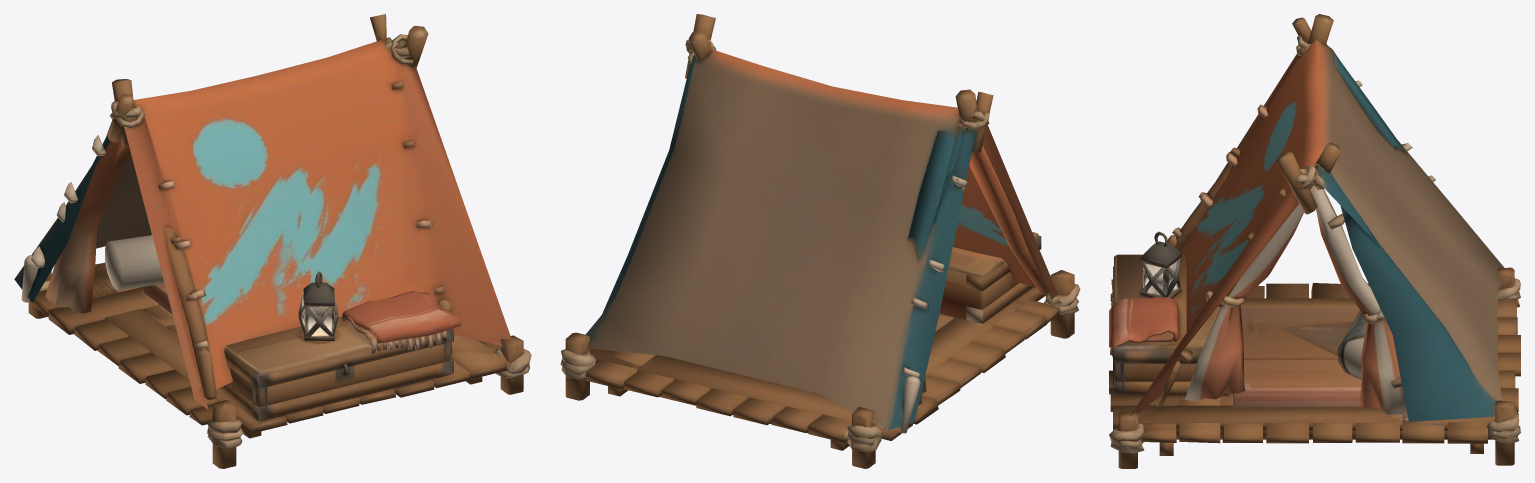
File: camp-web.glb
The picture shows the model from 3 angles, left to right: view 1: azimuth 30°, elevation 25°; view 2: azimuth 150°, elevation 25°; view 3: azimuth 270°, elevation 25°; orthographic projection.
Visible parts, largest first — view 1: tripo_node_5584a6af-4f89-4986-8032-4dc7a11286fd; view 2: tripo_node_5584a6af-4f89-4986-8032-4dc7a11286fd; view 3: tripo_node_5584a6af-4f89-4986-8032-4dc7a11286fd.
Part boxes in pixels (bbox=[...]): tripo_node_5584a6af-4f89-4986-8032-4dc7a11286fd: bbox=[14, 14, 531, 468]; tripo_node_5584a6af-4f89-4986-8032-4dc7a11286fd: bbox=[560, 14, 1080, 468]; tripo_node_5584a6af-4f89-4986-8032-4dc7a11286fd: bbox=[1109, 14, 1520, 468].
Bounding box in the file's own units: 0.9277 × 0.8301 × 0.998.
1 material, 1 textured.
